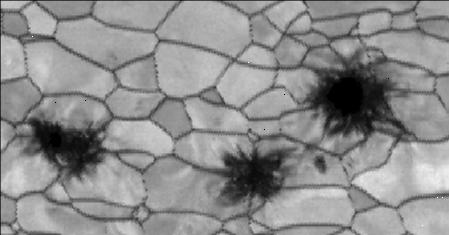good_void: (306, 65, 404, 144), (217, 129, 299, 212), (19, 114, 111, 182), (307, 152, 329, 173), (345, 155, 358, 169), (363, 50, 373, 60), (275, 126, 285, 132)
